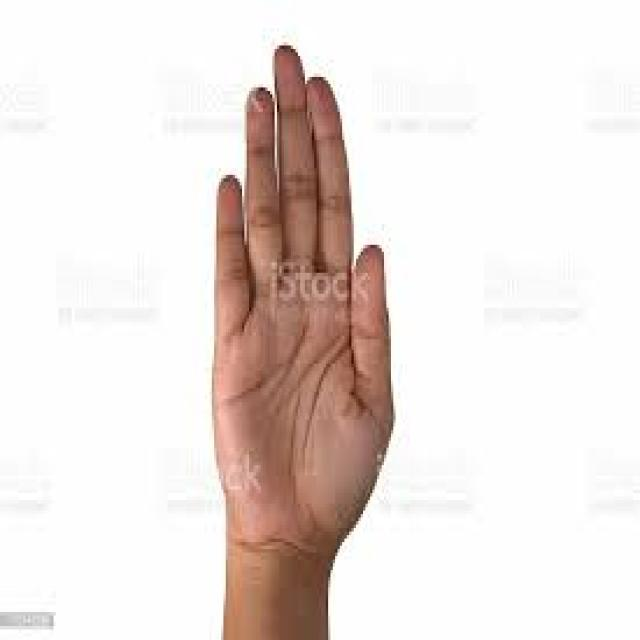no-gloves: (201, 34, 402, 545)
